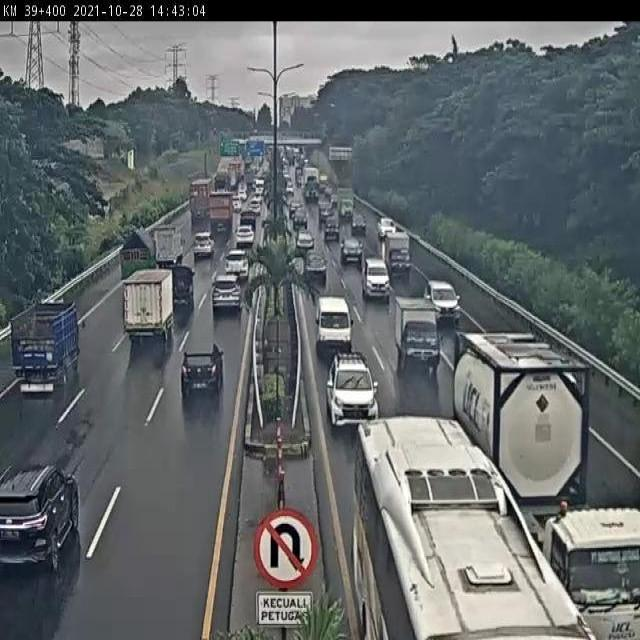car: (328, 352, 378, 431), (313, 293, 354, 359), (424, 281, 462, 331), (361, 259, 392, 305), (212, 272, 243, 317), (303, 252, 328, 285), (340, 236, 363, 268), (226, 249, 251, 276), (192, 230, 214, 258), (295, 227, 317, 254), (235, 221, 255, 244)
truck-s-: (11, 301, 86, 392), (123, 266, 176, 346), (396, 296, 444, 376), (121, 230, 153, 294), (383, 228, 413, 281), (153, 224, 182, 264), (170, 268, 197, 309)
